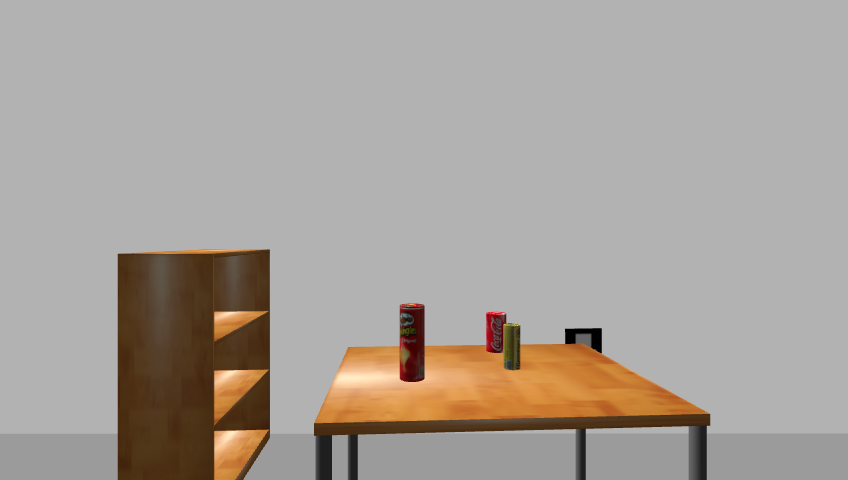aruco marker: (561, 327, 606, 359)
biscuits pack: (504, 323, 522, 371)
bookshelf: (113, 247, 278, 479)
coke can: (484, 310, 507, 354)
dinner table: (309, 341, 718, 480)
pringles can: (397, 303, 427, 384)
